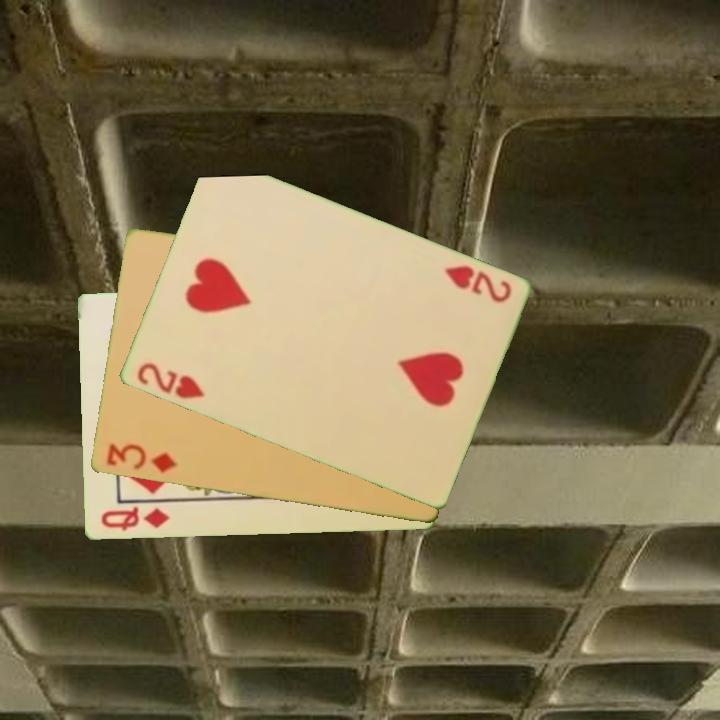2h: (133, 359, 208, 403), (441, 262, 514, 306)
3d: (103, 440, 180, 476)
Qd: (97, 503, 172, 535)
